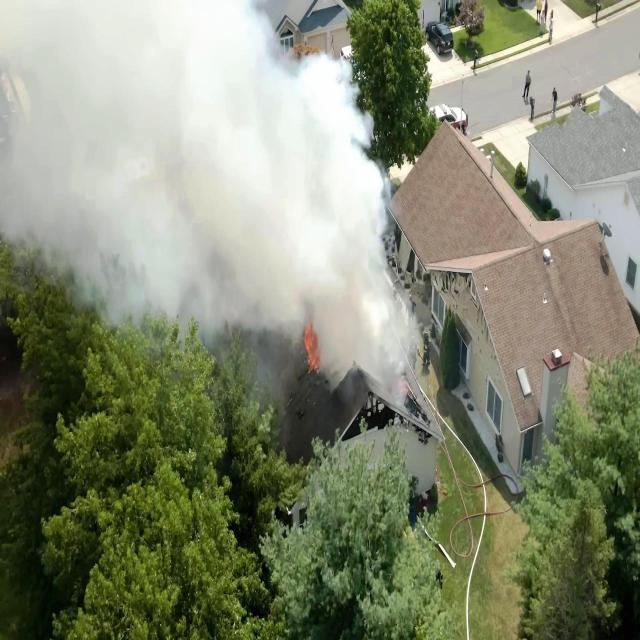Fire: (298, 318, 324, 377)
Smoke: (2, 0, 393, 314), (177, 318, 300, 393), (326, 313, 416, 409)
